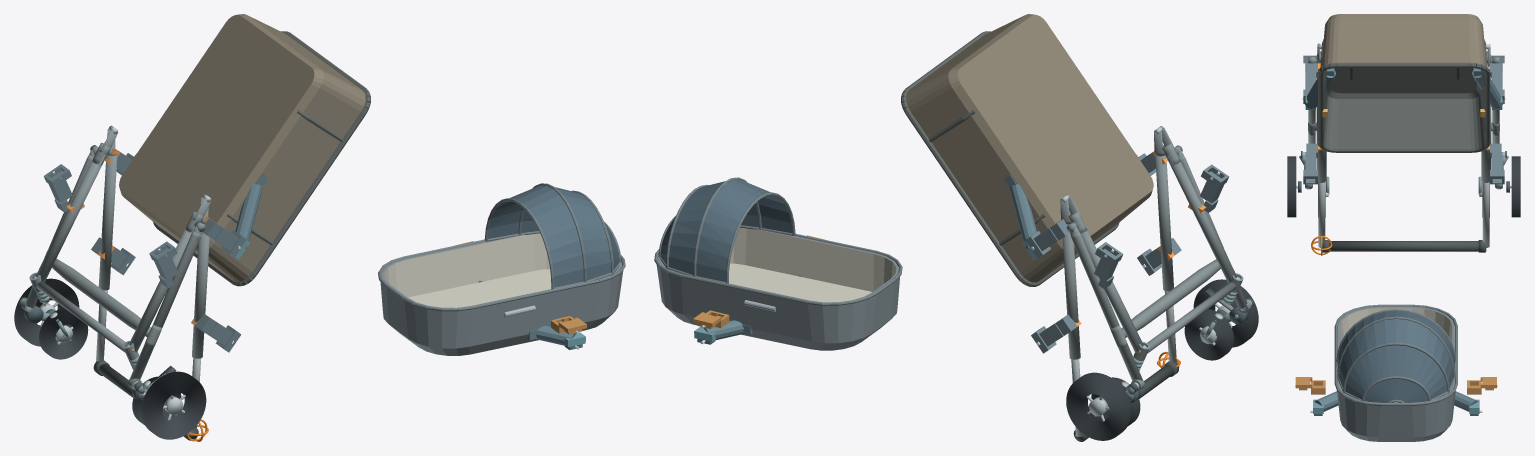
The model's file is D18_w650_state3_wheel_S.glb.
3 renders of one model, left to right at view 1: azimuth 30°, elevation 25°; view 2: azimuth 150°, elevation 25°; view 3: azimuth 270°, elevation 25°, orthographic. The views are drawn at different scales.
Visible parts, largest first — view 1: D18_Lower, D18_Upper, RL_tire.011, FR_tire.011, main_upper_1.012, main_lower_1.012, V46_rearbar.011, V46_rear_leg_-1.011, main_upper_-1.012, RR_tire.011, main_lower_-1.012, D18_Lower_Mount_M (+6 smaller); view 2: D18_Lower, D18_Upper, RR_tire.011, FL_tire.011, main_upper_-1.012, main_lower_-1.012, V46_rearbar.011, V46_rear_leg_1.011, main_upper_1.012, RL_tire.011, main_lower_1.012, D18_Lower_Mount_M (+7 smaller); view 3: D18_Lower, D18_Upper, round_handle.013, D18_Lower_Mount_M, D18_Upper_Mount_H, RL_tire.011, RR_tire.011, Universal_Cabin_Receiver_H_1, Universal_Cabin_Receiver_H_-1, handle_slider_1.013, handle_slider_-1.013, D02_WideAdapter_H_-1 (+5 smaller).
Boxes of the visible parts, left/top/right/bottom form: D18_Lower: left=119, top=14, right=370, bottom=286; D18_Upper: left=378, top=183, right=625, bottom=355; RL_tire.011: left=141, top=371, right=206, bottom=439; FR_tire.011: left=39, top=308, right=88, bottom=359; main_upper_1.012: left=98, top=155, right=117, bottom=290; main_lower_1.012: left=36, top=155, right=105, bottom=282; V46_rearbar.011: left=52, top=258, right=150, bottom=336; V46_rear_leg_-1.011: left=130, top=231, right=201, bottom=379; main_upper_-1.012: left=192, top=224, right=209, bottom=358; RR_tire.011: left=14, top=278, right=79, bottom=346; main_lower_-1.012: left=129, top=228, right=194, bottom=352; D18_Lower_Mount_M: left=134, top=153, right=268, bottom=259; D18_Lower: left=901, top=14, right=1153, bottom=286; D18_Upper: left=654, top=177, right=902, bottom=350; RR_tire.011: left=1066, top=372, right=1131, bottom=440; FL_tire.011: left=1184, top=309, right=1233, bottom=360; main_upper_-1.012: left=1155, top=155, right=1173, bottom=291; main_lower_-1.012: left=1167, top=155, right=1236, bottom=283; V46_rearbar.011: left=1121, top=259, right=1220, bottom=337; V46_rear_leg_1.011: left=1070, top=231, right=1142, bottom=380; main_upper_1.012: left=1062, top=224, right=1080, bottom=359; RL_tire.011: left=1193, top=279, right=1258, bottom=347; main_lower_1.012: left=1078, top=229, right=1143, bottom=353; D18_Lower_Mount_M: left=1004, top=154, right=1138, bottom=259; D18_Lower: left=1318, top=14, right=1489, bottom=152; D18_Upper: left=1334, top=304, right=1457, bottom=441; round_handle.013: left=1329, top=241, right=1486, bottom=251; D18_Lower_Mount_M: left=1302, top=68, right=1505, bottom=109; D18_Upper_Mount_H: left=1310, top=391, right=1482, bottom=415; RL_tire.011: left=1287, top=156, right=1296, bottom=217; RR_tire.011: left=1511, top=156, right=1520, bottom=217; Universal_Cabin_Receiver_H_1: left=1490, top=143, right=1504, bottom=184; Universal_Cabin_Receiver_H_-1: left=1303, top=143, right=1317, bottom=184; handle_slider_1.013: left=1482, top=182, right=1489, bottom=247; handle_slider_-1.013: left=1318, top=182, right=1325, bottom=247; D02_WideAdapter_H_-1: left=1295, top=377, right=1325, bottom=394.
Bounding box in the file's own units: 1.77 × 1.07 × 0.766.
